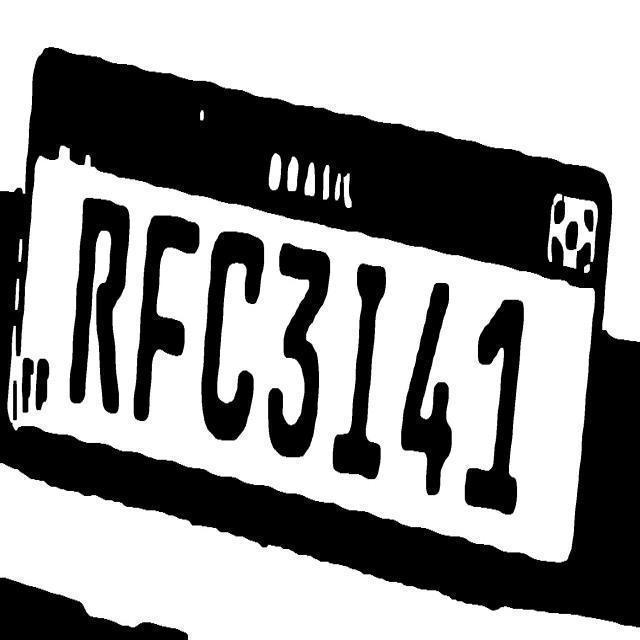1: (463, 290, 527, 519)
3: (266, 240, 330, 456)
4: (393, 269, 456, 506)
c: (198, 225, 264, 445)
f: (132, 206, 201, 428)
i: (330, 254, 388, 480)
r: (68, 186, 130, 418)
